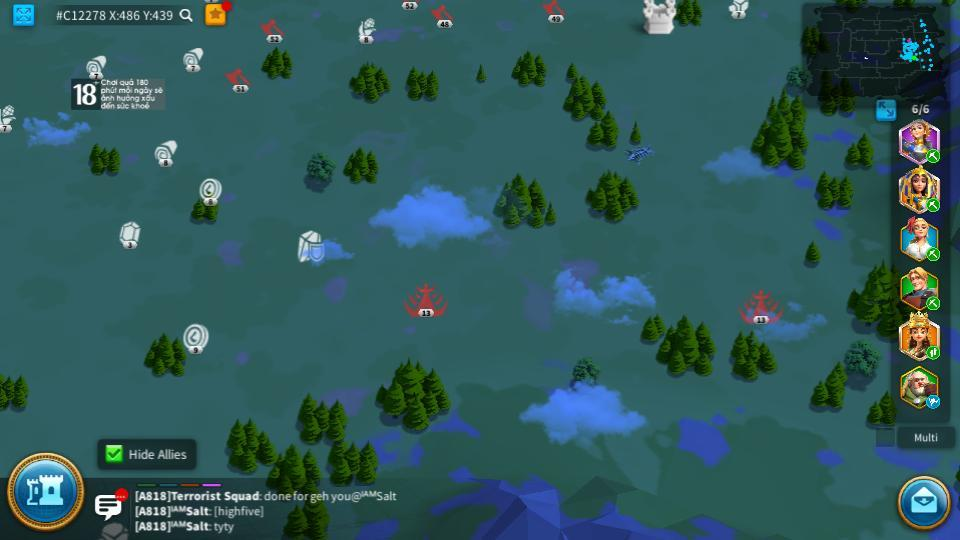gem-z-out: (118, 222, 142, 248)
march_farming: (925, 197, 941, 212), (925, 149, 942, 162), (925, 297, 941, 310), (925, 347, 941, 359)
march_idle: (925, 396, 942, 410)
